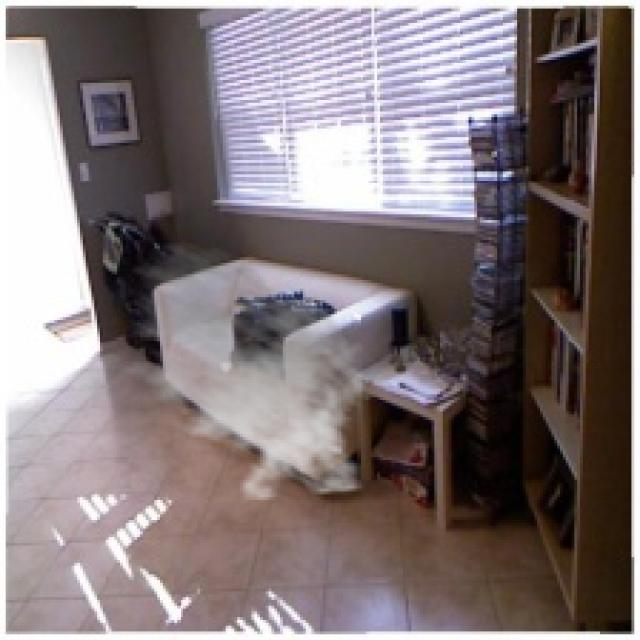smoke: (109, 240, 377, 503)
